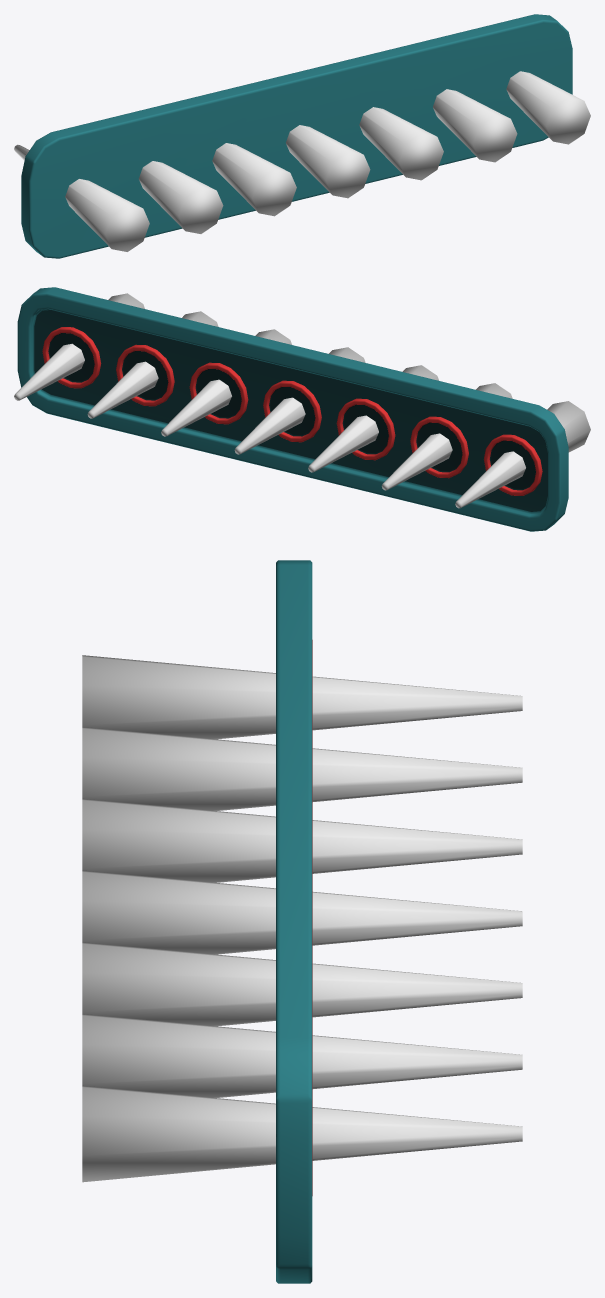
The model's file is Pike1.fbx.
The picture shows the model from 3 angles, top to bottom: view 1: azimuth 30°, elevation 25°; view 2: azimuth 150°, elevation 25°; view 3: azimuth 270°, elevation 25°; orthographic projection. The views are drawn at different scales.
Parts seen in each view (by area): view 1: Plane.004, Cylinder.017; view 2: Plane.004, Cylinder.017; view 3: Cylinder.017, Plane.004.
Part boxes in pixels (bbox=[...]): Plane.004: bbox=[21, 14, 572, 258]; Cylinder.017: bbox=[14, 71, 590, 251]; Plane.004: bbox=[17, 287, 568, 531]; Cylinder.017: bbox=[14, 293, 590, 508]; Cylinder.017: bbox=[82, 655, 522, 1182]; Plane.004: bbox=[276, 560, 312, 1283].
Size of the model in its own units: 7.92 by 1.68 by 2.78.
